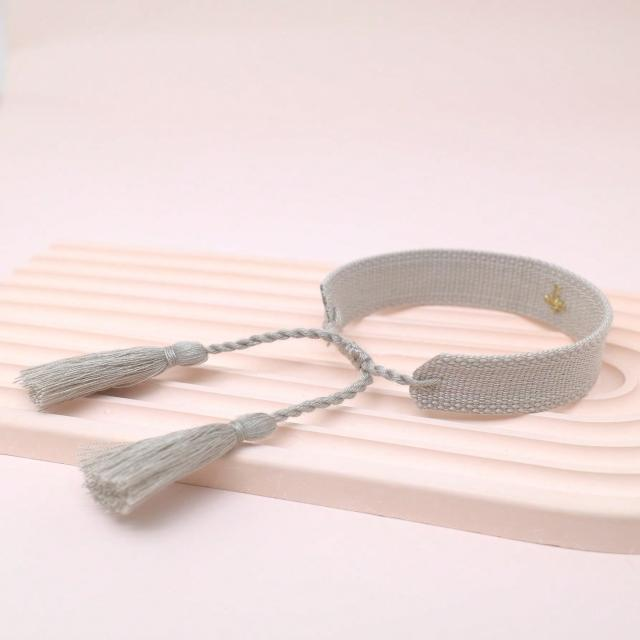bracelet: (11, 193, 640, 605)
